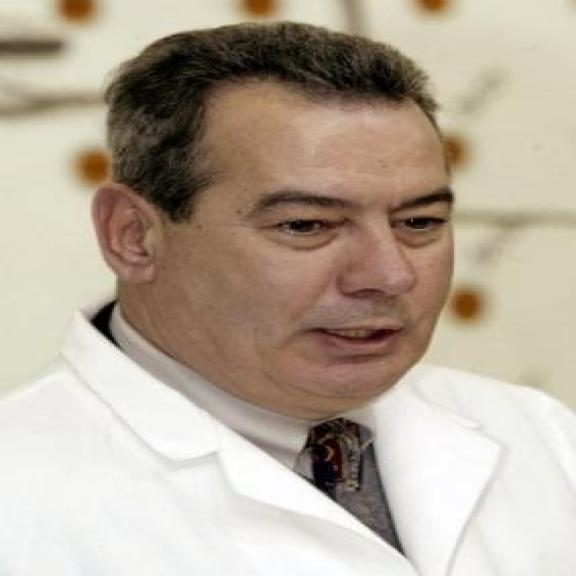face: (81, 74, 457, 400)
